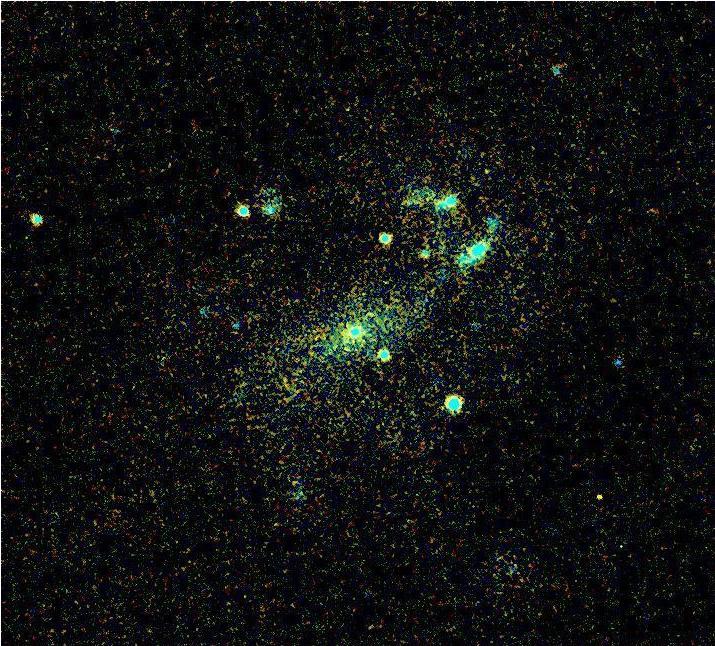star: (584, 483, 614, 513)
